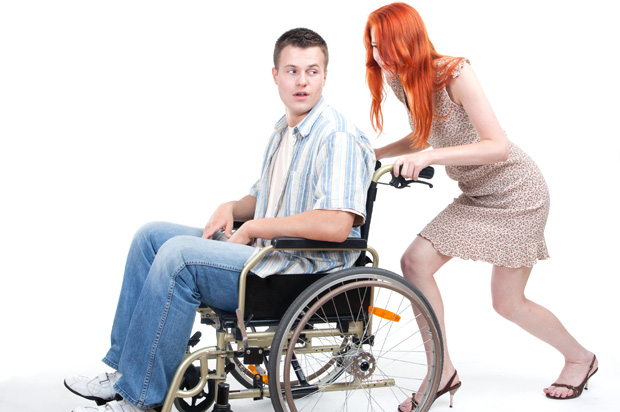person: (356, 5, 600, 412), (248, 15, 369, 254)
wheelchair: (176, 264, 446, 412)
